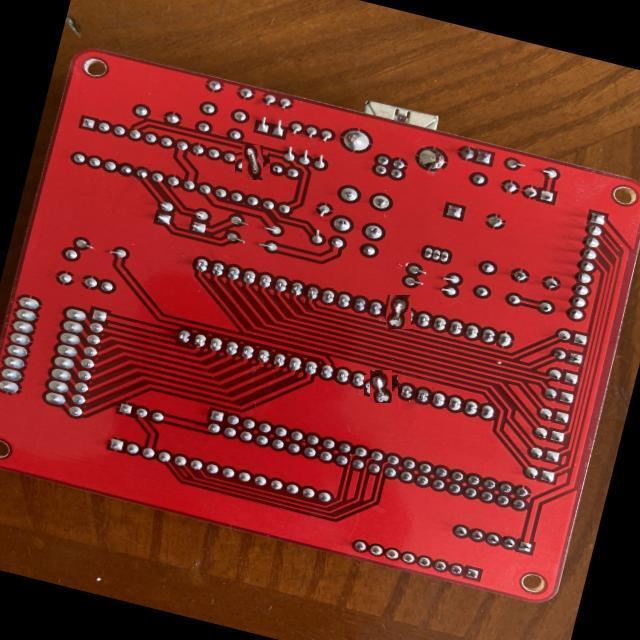damged: (384, 298, 414, 328), (238, 149, 267, 177), (368, 372, 396, 400)
